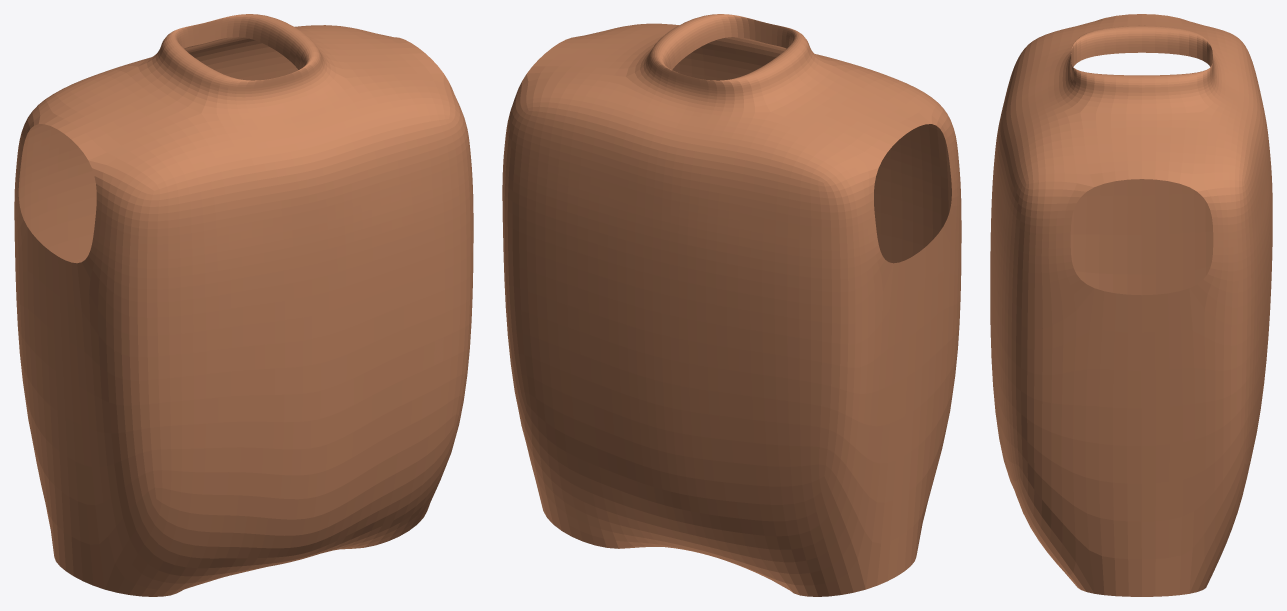
File: Torso.obj
3 renders of one model, left to right at view 1: azimuth 30°, elevation 25°; view 2: azimuth 150°, elevation 25°; view 3: azimuth 270°, elevation 25°, orthographic. The views are drawn at different scales.
Parts seen in each view (by area): view 1: Cubo.004; view 2: Cubo.004; view 3: Cubo.004.
Part boxes in pixels (bbox=[...]): Cubo.004: bbox=[14, 14, 473, 596]; Cubo.004: bbox=[502, 14, 961, 596]; Cubo.004: bbox=[990, 14, 1272, 596].
Bounding box in the file's own units: 1.96 × 2.52 × 1.32.
